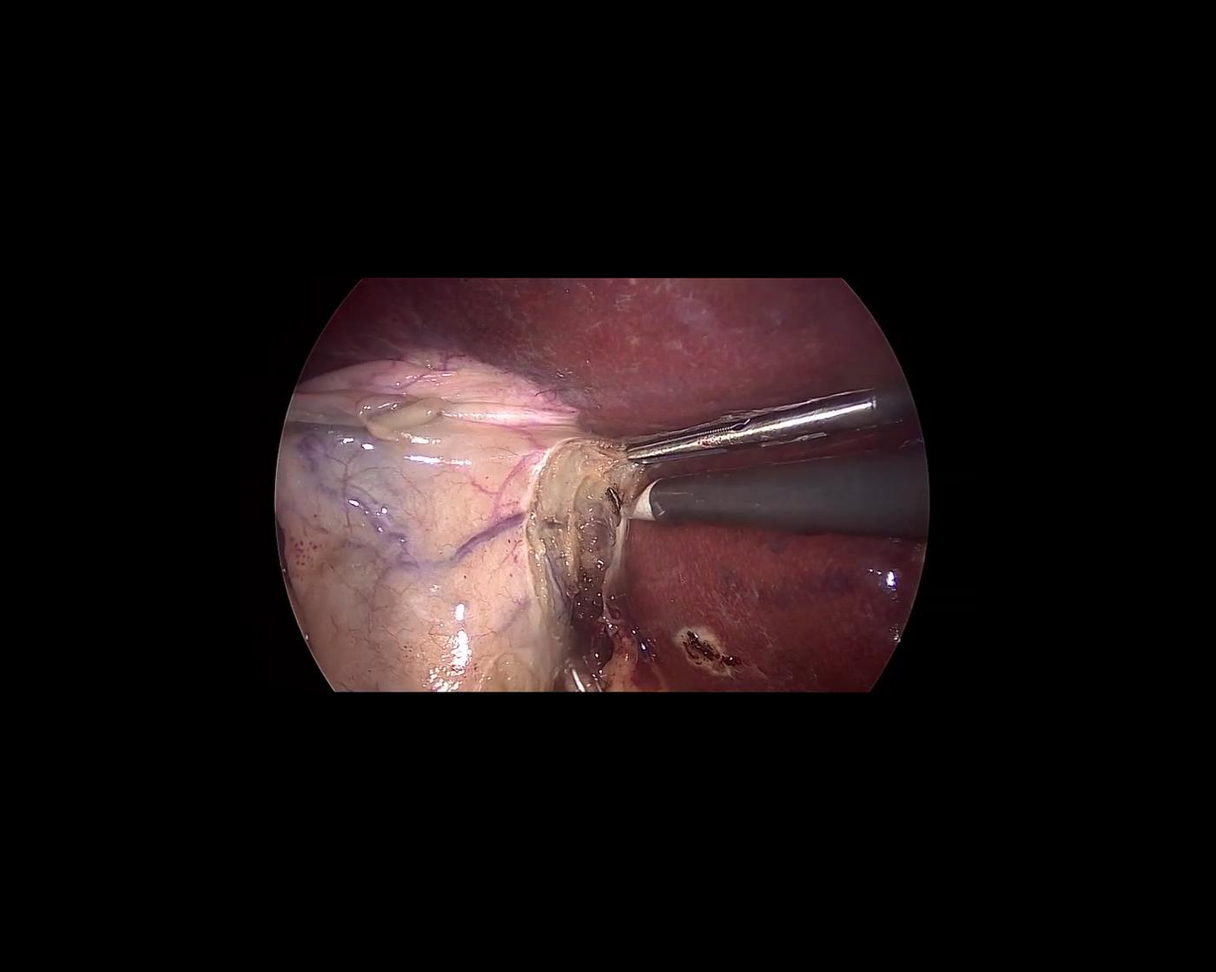Cautery: (606, 445, 926, 545)
Forceps: (620, 384, 924, 463)
Gallbladder: (279, 351, 584, 692)
Liver: (301, 281, 925, 692)
